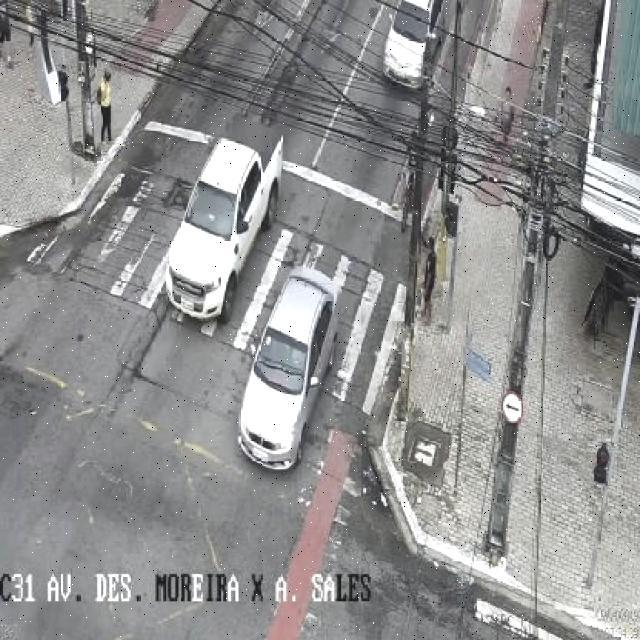car: (166, 139, 282, 321), (239, 266, 338, 469), (384, 0, 429, 88)
road-signs: (502, 391, 522, 423)
traffic-lights: (594, 442, 610, 483), (58, 70, 69, 101)
